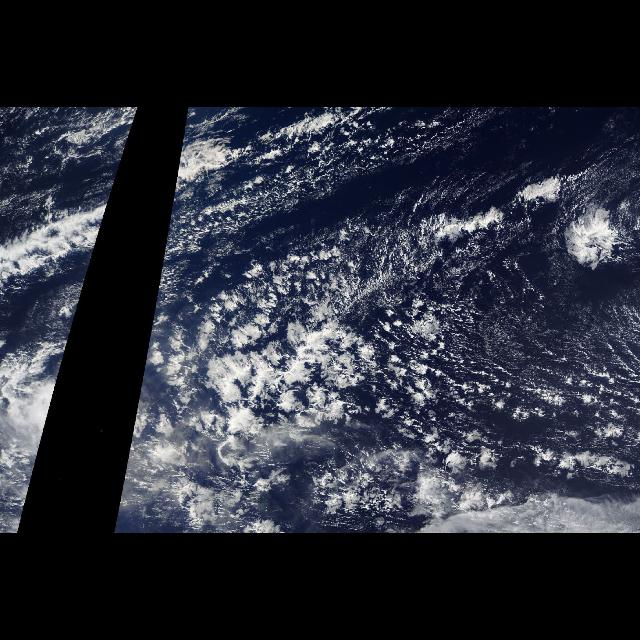Fish: (1, 204, 109, 286)
Flower: (272, 251, 460, 419), (306, 440, 496, 514), (553, 207, 639, 275)
Gravel: (388, 253, 636, 501), (2, 110, 112, 196)
Sugar: (380, 258, 640, 426)
